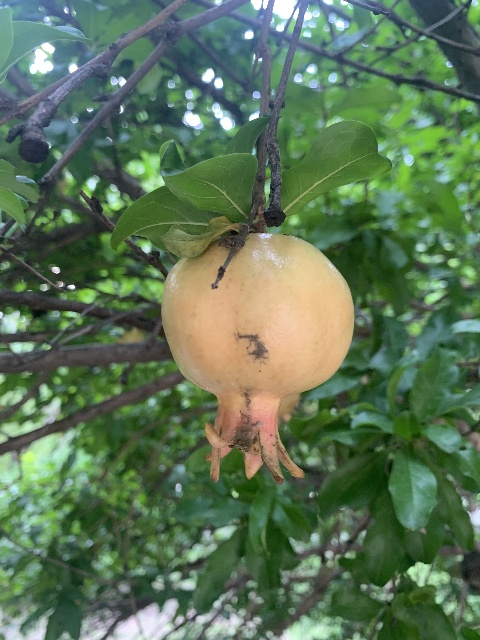mid-growth: (161, 232, 356, 484)
